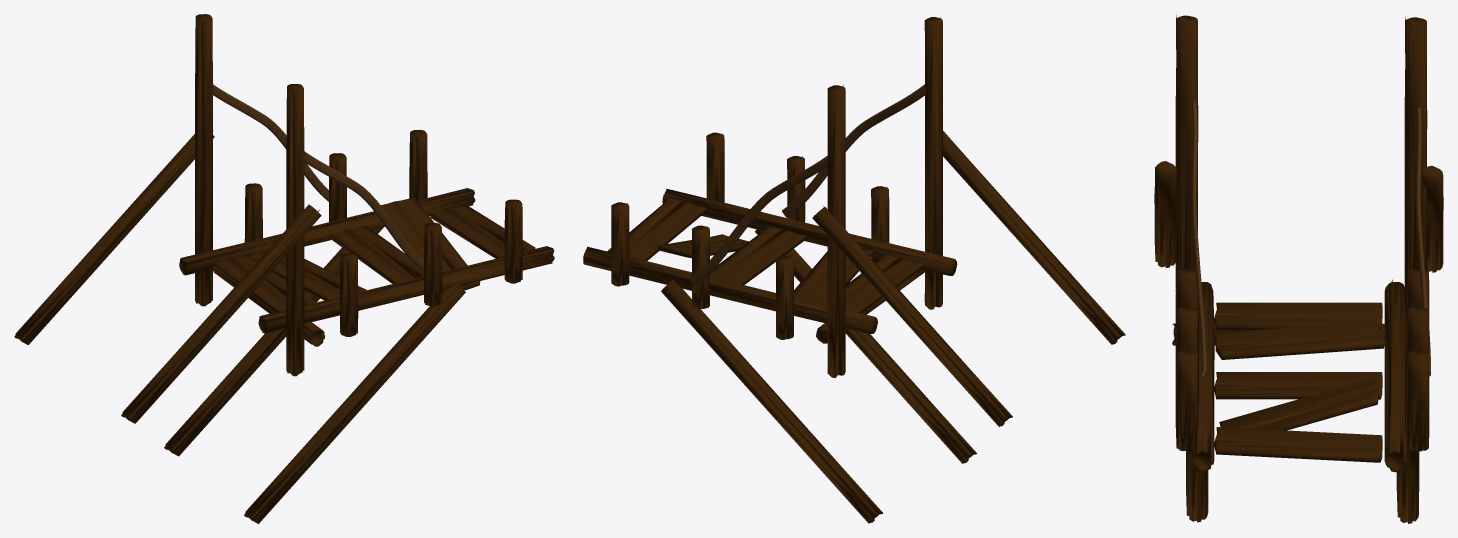
File: bridge1.fbx
The picture shows the model from 3 angles, left to right: view 1: azimuth 30°, elevation 25°; view 2: azimuth 150°, elevation 25°; view 3: azimuth 270°, elevation 25°; orthographic projection. The views are drawn at different scales.
Parts seen in each view (by area): view 1: Cylinder.006, BézierCurve; view 2: Cylinder.006, BézierCurve; view 3: Cylinder.006, BézierCurve.
Boxes of the visible parts, bbox=[...] form: Cylinder.006: bbox=[14, 14, 554, 523]; BézierCurve: bbox=[213, 84, 423, 270]; Cylinder.006: bbox=[583, 17, 1125, 523]; BézierCurve: bbox=[689, 84, 925, 285]; Cylinder.006: bbox=[1154, 15, 1443, 523]; BézierCurve: bbox=[1191, 100, 1430, 376].
Bounding box in the file's own units: 4288 × 4009 × 1992.
Materials: 2 (2 with a texture image).
